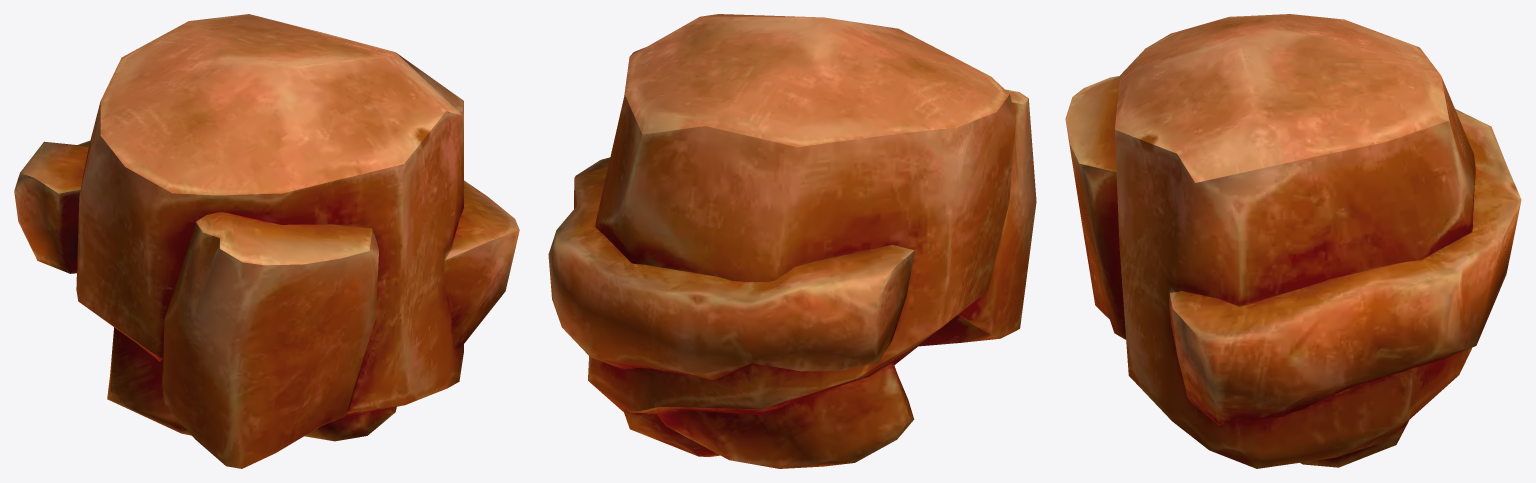
The picture shows the model from 3 angles, left to right: view 1: azimuth 30°, elevation 25°; view 2: azimuth 150°, elevation 25°; view 3: azimuth 270°, elevation 25°; orthographic projection. The views are drawn at different scales.
Visible parts, largest first — view 1: SM_Clay_Ore_Small_01_LOD0; view 2: SM_Clay_Ore_Small_01_LOD0; view 3: SM_Clay_Ore_Small_01_LOD0.
Boxes of the visible parts, x1,y1,x2,y2 form: SM_Clay_Ore_Small_01_LOD0: [14, 14, 519, 468]; SM_Clay_Ore_Small_01_LOD0: [548, 14, 1036, 468]; SM_Clay_Ore_Small_01_LOD0: [1065, 14, 1521, 468].
Bounding box in the file's own units: 0.2491 × 0.2454 × 0.261.
1 material, 1 textured.
